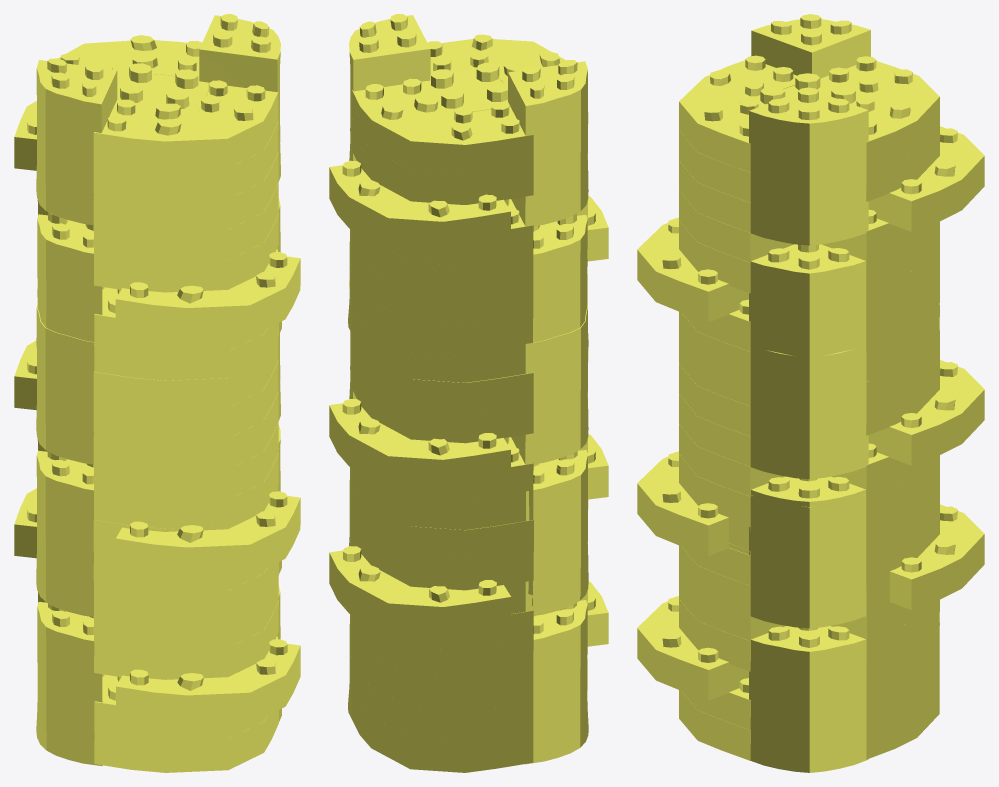
The model's file is LargeLegoTower.fbx.
3 views of the same model, side by side, from view 1: azimuth 30°, elevation 25°; view 2: azimuth 150°, elevation 25°; view 3: azimuth 270°, elevation 25° (orthographic). The views are drawn at different scales.
Visible parts, largest first — view 1: polySurface8062; view 2: polySurface8062; view 3: polySurface8062.
Part boxes in pixels (x1,y1,x2,y2): polySurface8062: (14, 14, 300, 772); polySurface8062: (329, 14, 608, 772); polySurface8062: (637, 14, 984, 772).
Bounding box in the file's own units: 9.9 × 27.87 × 13.34.
